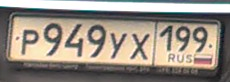character: (64, 20, 86, 60), (41, 21, 62, 59), (86, 24, 106, 59), (129, 31, 150, 62), (109, 31, 128, 63), (20, 28, 39, 58), (191, 26, 210, 56), (175, 24, 191, 55), (159, 24, 174, 55)
